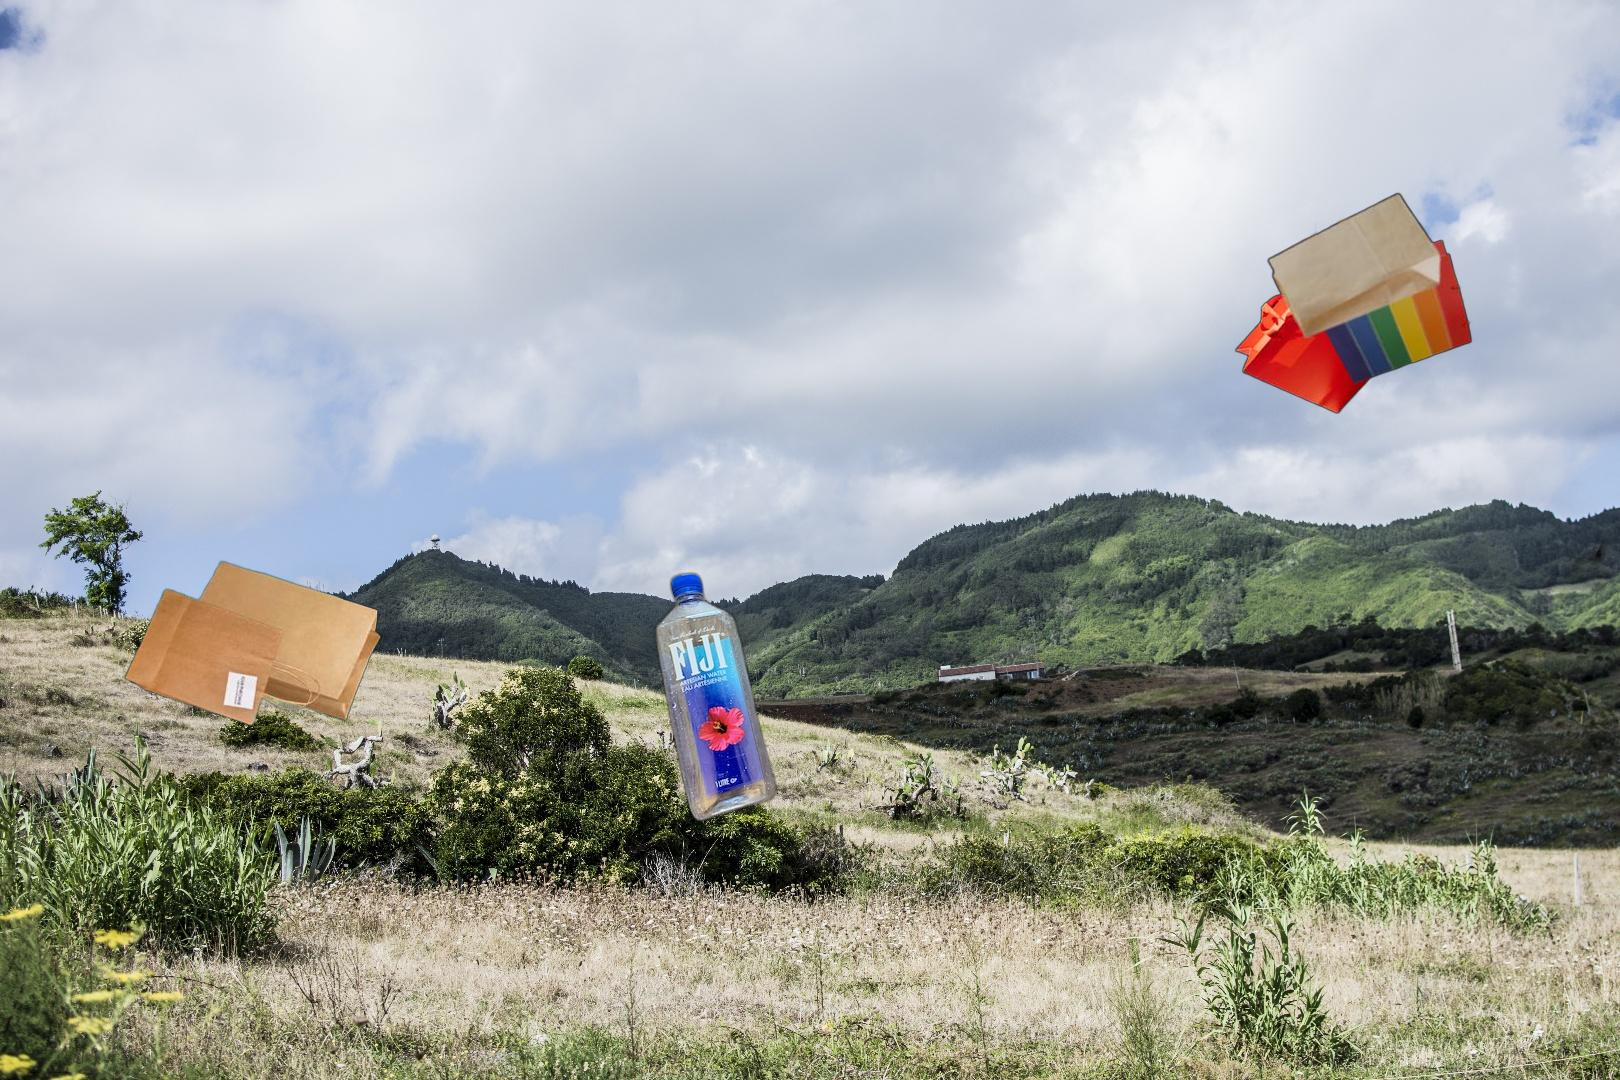paper-bag: (1232, 190, 1475, 417), (121, 558, 382, 729)
penholder: (1410, 509, 1620, 959)
plastic-bottles: (651, 567, 781, 828)
